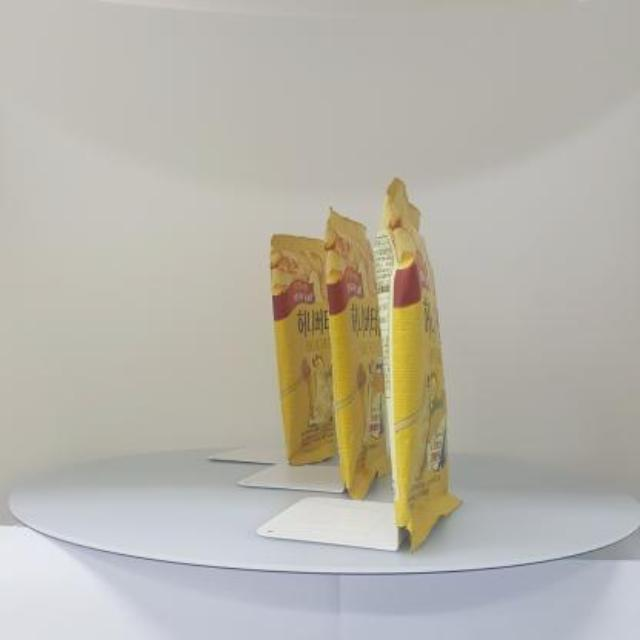snack_bag: (260, 165, 490, 568)
